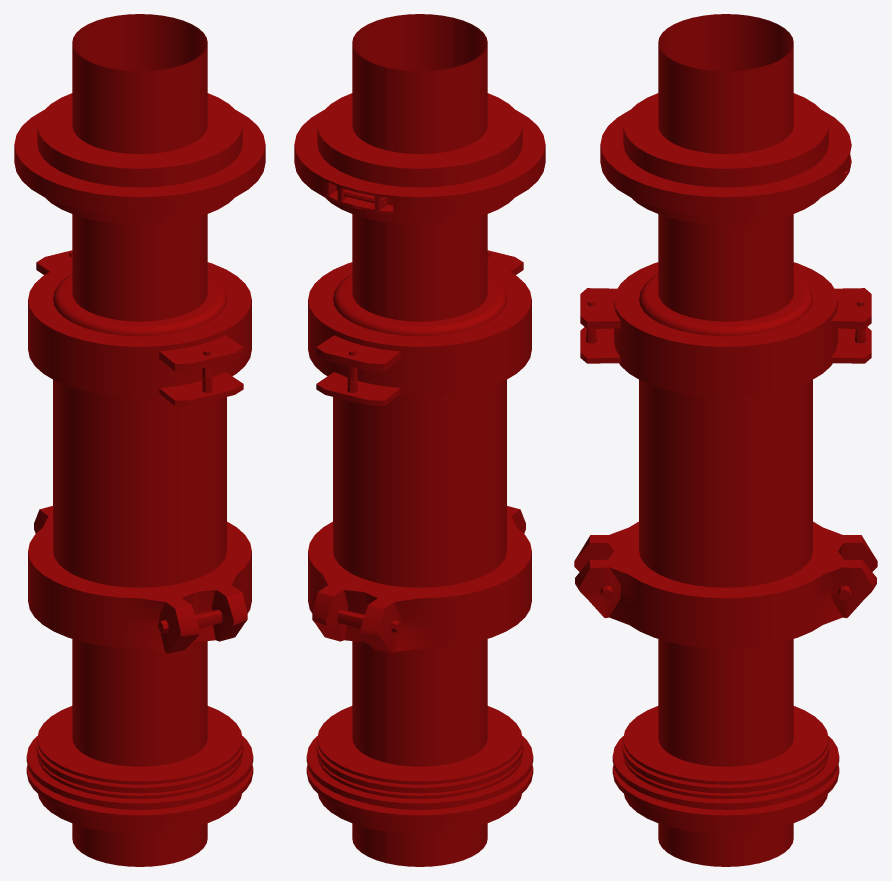
File: Single Pipe Aaron Altamirano.fbx
The picture shows the model from 3 angles, left to right: view 1: azimuth 30°, elevation 25°; view 2: azimuth 150°, elevation 25°; view 3: azimuth 270°, elevation 25°; orthographic projection.
Parts seen in each view (by area): view 1: 1st_Pipe_1; view 2: 1st_Pipe_1; view 3: 1st_Pipe_1.
Boxes of the visible parts, <box> form: 1st_Pipe_1: <box>14,14,265,866</box>; 1st_Pipe_1: <box>294,14,545,866</box>; 1st_Pipe_1: <box>574,14,877,866</box>.
Size of the model in its own units: 192 by 673 by 232.
